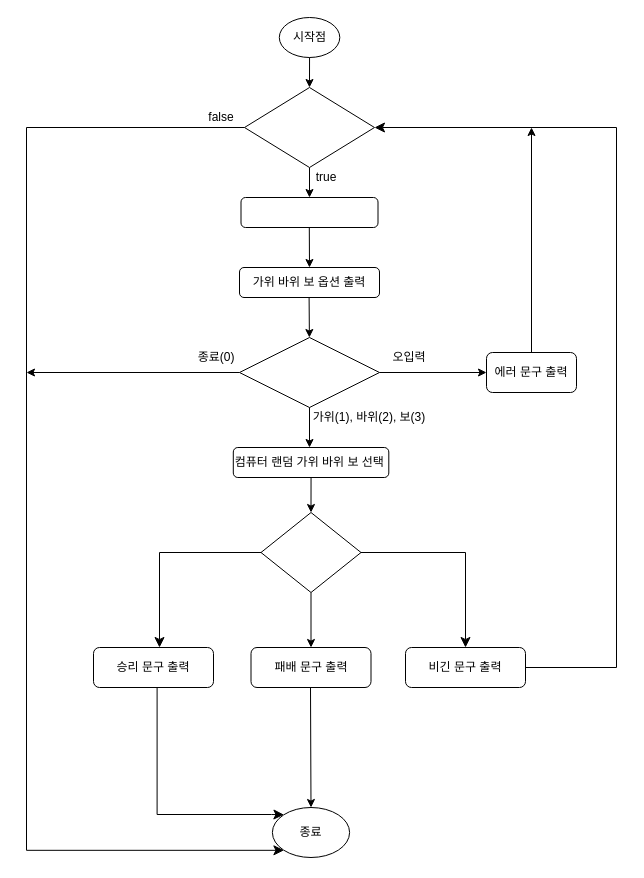
Image size: 644x878. Some labels were removed from this diagram. Each missing label, with the centre of its shape:
게임 시작: (x=309, y=212)
게임 실행 판단: (x=309, y=127)
승부 판단: (x=310, y=552)
유저 옵션 선택: (x=309, y=372)
